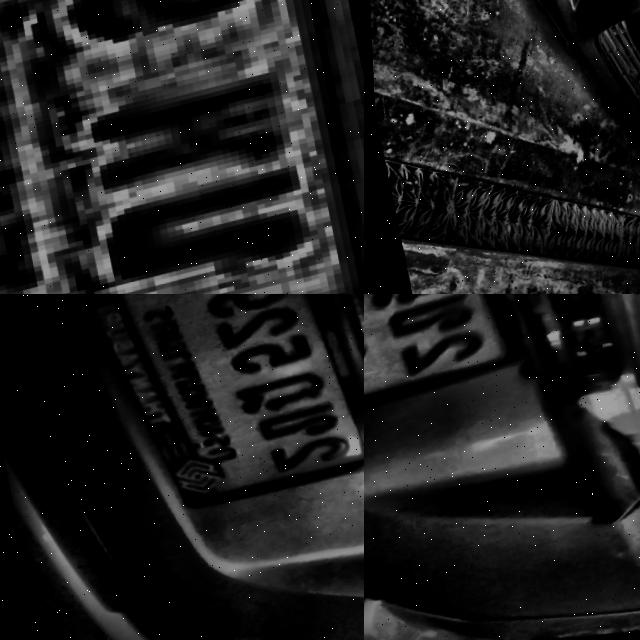license-plate: (0, 0, 364, 294), (110, 294, 364, 501), (364, 294, 502, 403)
